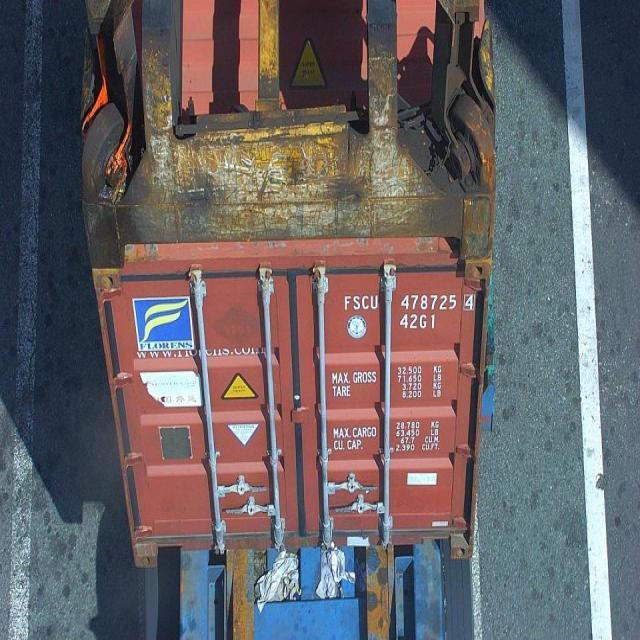ISO: (400, 313, 438, 331)
container_number: (342, 291, 476, 314)
